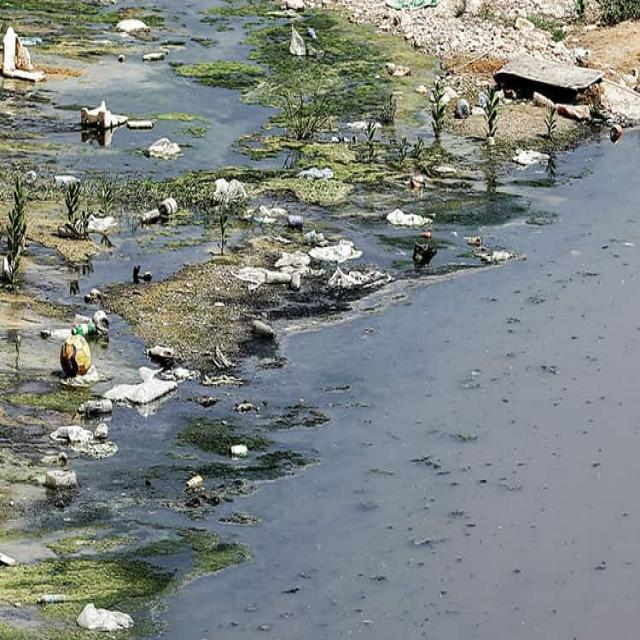-: (250, 135, 640, 640), (78, 170, 268, 605), (26, 240, 190, 600), (0, 0, 279, 195), (349, 322, 495, 640), (0, 527, 171, 640)
